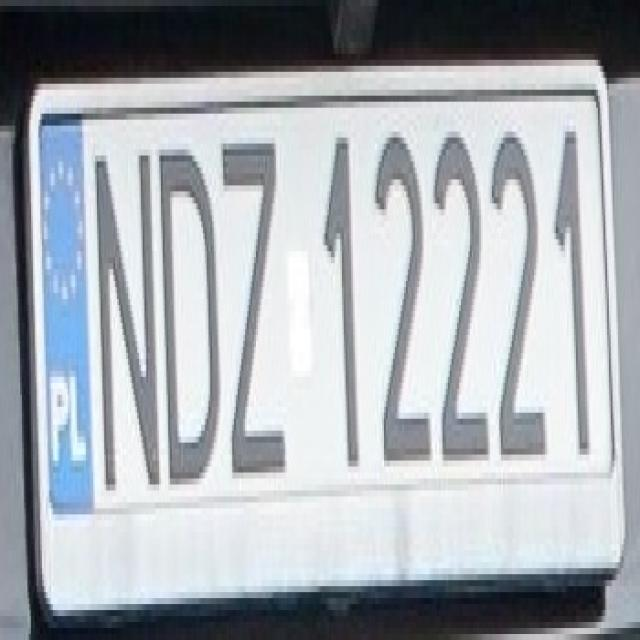1: (309, 114, 362, 466), (544, 102, 594, 460)
2: (422, 108, 494, 466), (360, 108, 430, 466), (482, 102, 548, 460)
D: (152, 126, 222, 490)
N: (86, 132, 158, 496)
Z: (216, 108, 289, 478)
